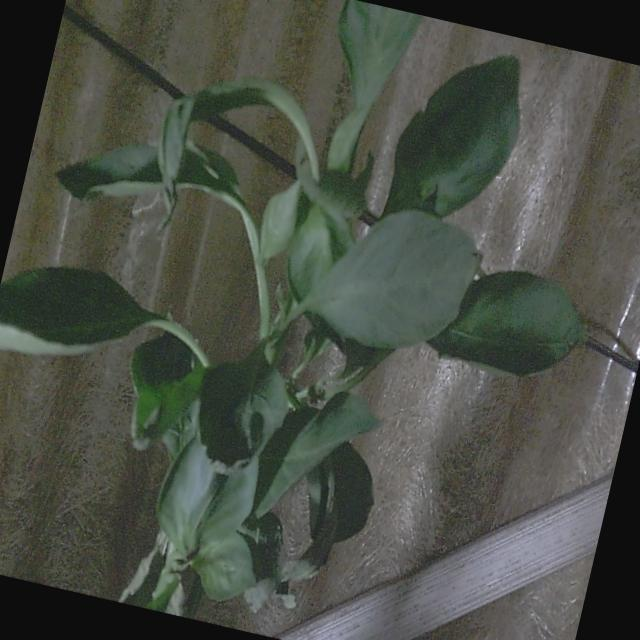Leaf: (302, 188, 489, 369), (381, 31, 537, 234), (428, 251, 600, 394), (0, 247, 157, 382), (182, 346, 298, 484)
